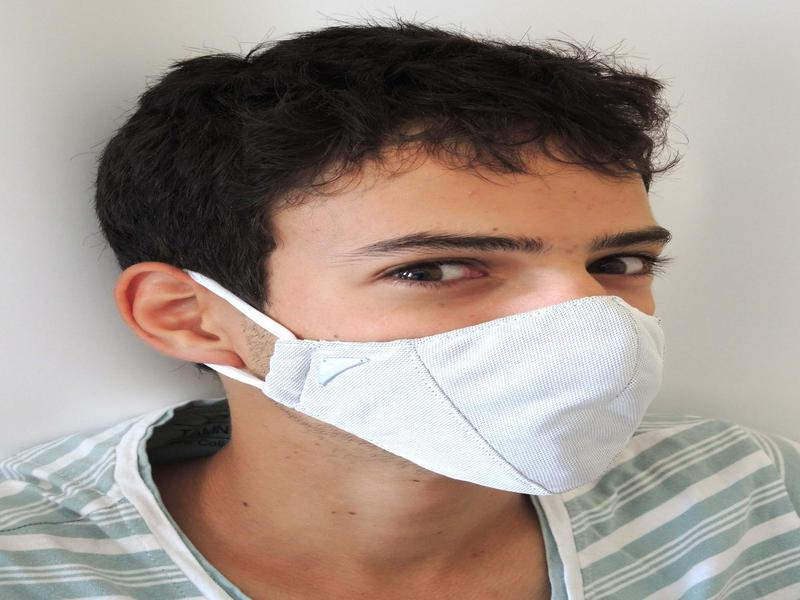with_mask: (95, 23, 674, 508)
